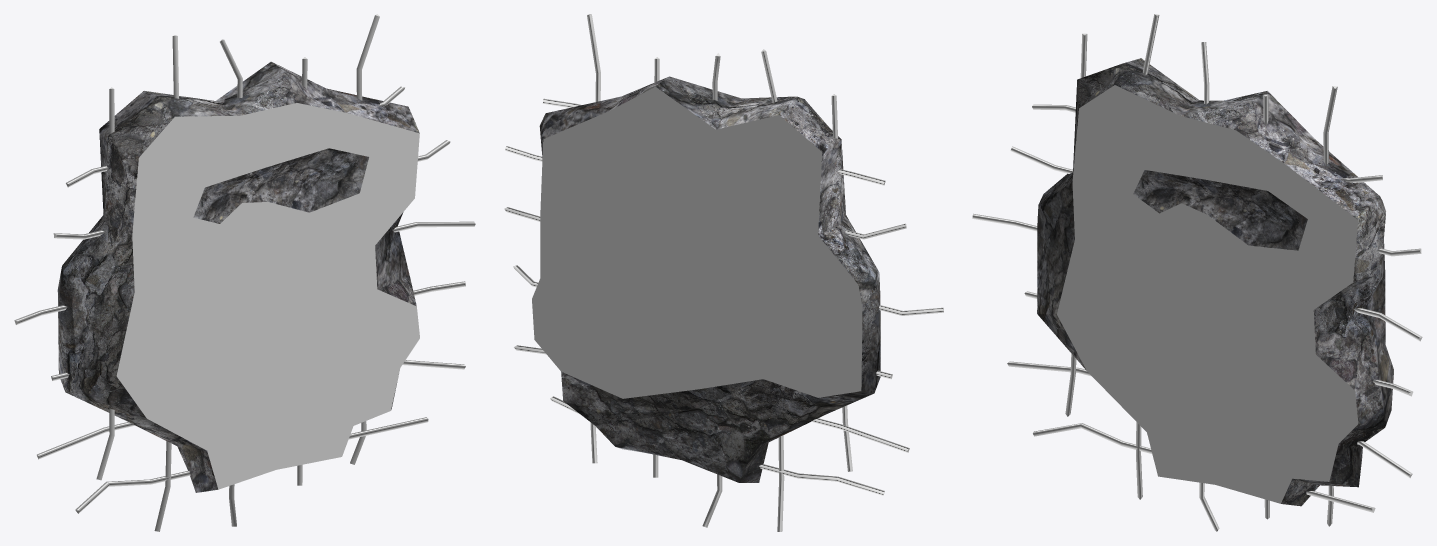
Rendered from Debris3_LOD1.fbx.
The picture shows the model from 3 angles, left to right: view 1: azimuth 30°, elevation 25°; view 2: azimuth 150°, elevation 25°; view 3: azimuth 330°, elevation 25°; orthographic projection. The views are drawn at different scales.
Parts seen in each view (by area): view 1: polySurface1305; view 2: polySurface1305; view 3: polySurface1305.
Part boxes in pixels (x1,y1,x2,y2): polySurface1305: (14, 14, 475, 531); polySurface1305: (504, 14, 943, 531); polySurface1305: (972, 14, 1422, 531).
Bounding box in the file's own units: 3.28 × 3.48 × 0.3589.
